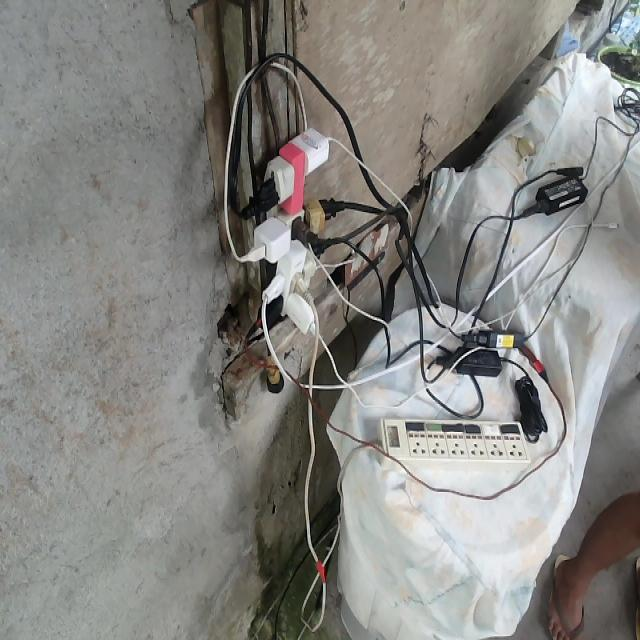-: (248, 127, 344, 336)
